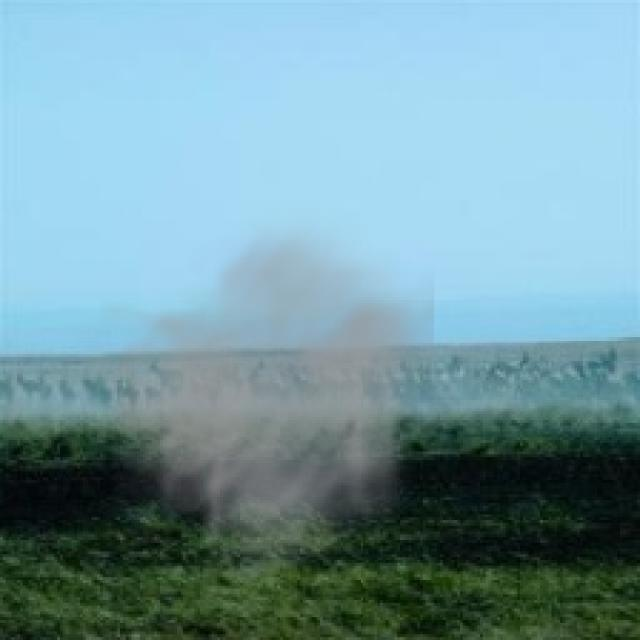Smoke: (72, 208, 434, 592)
